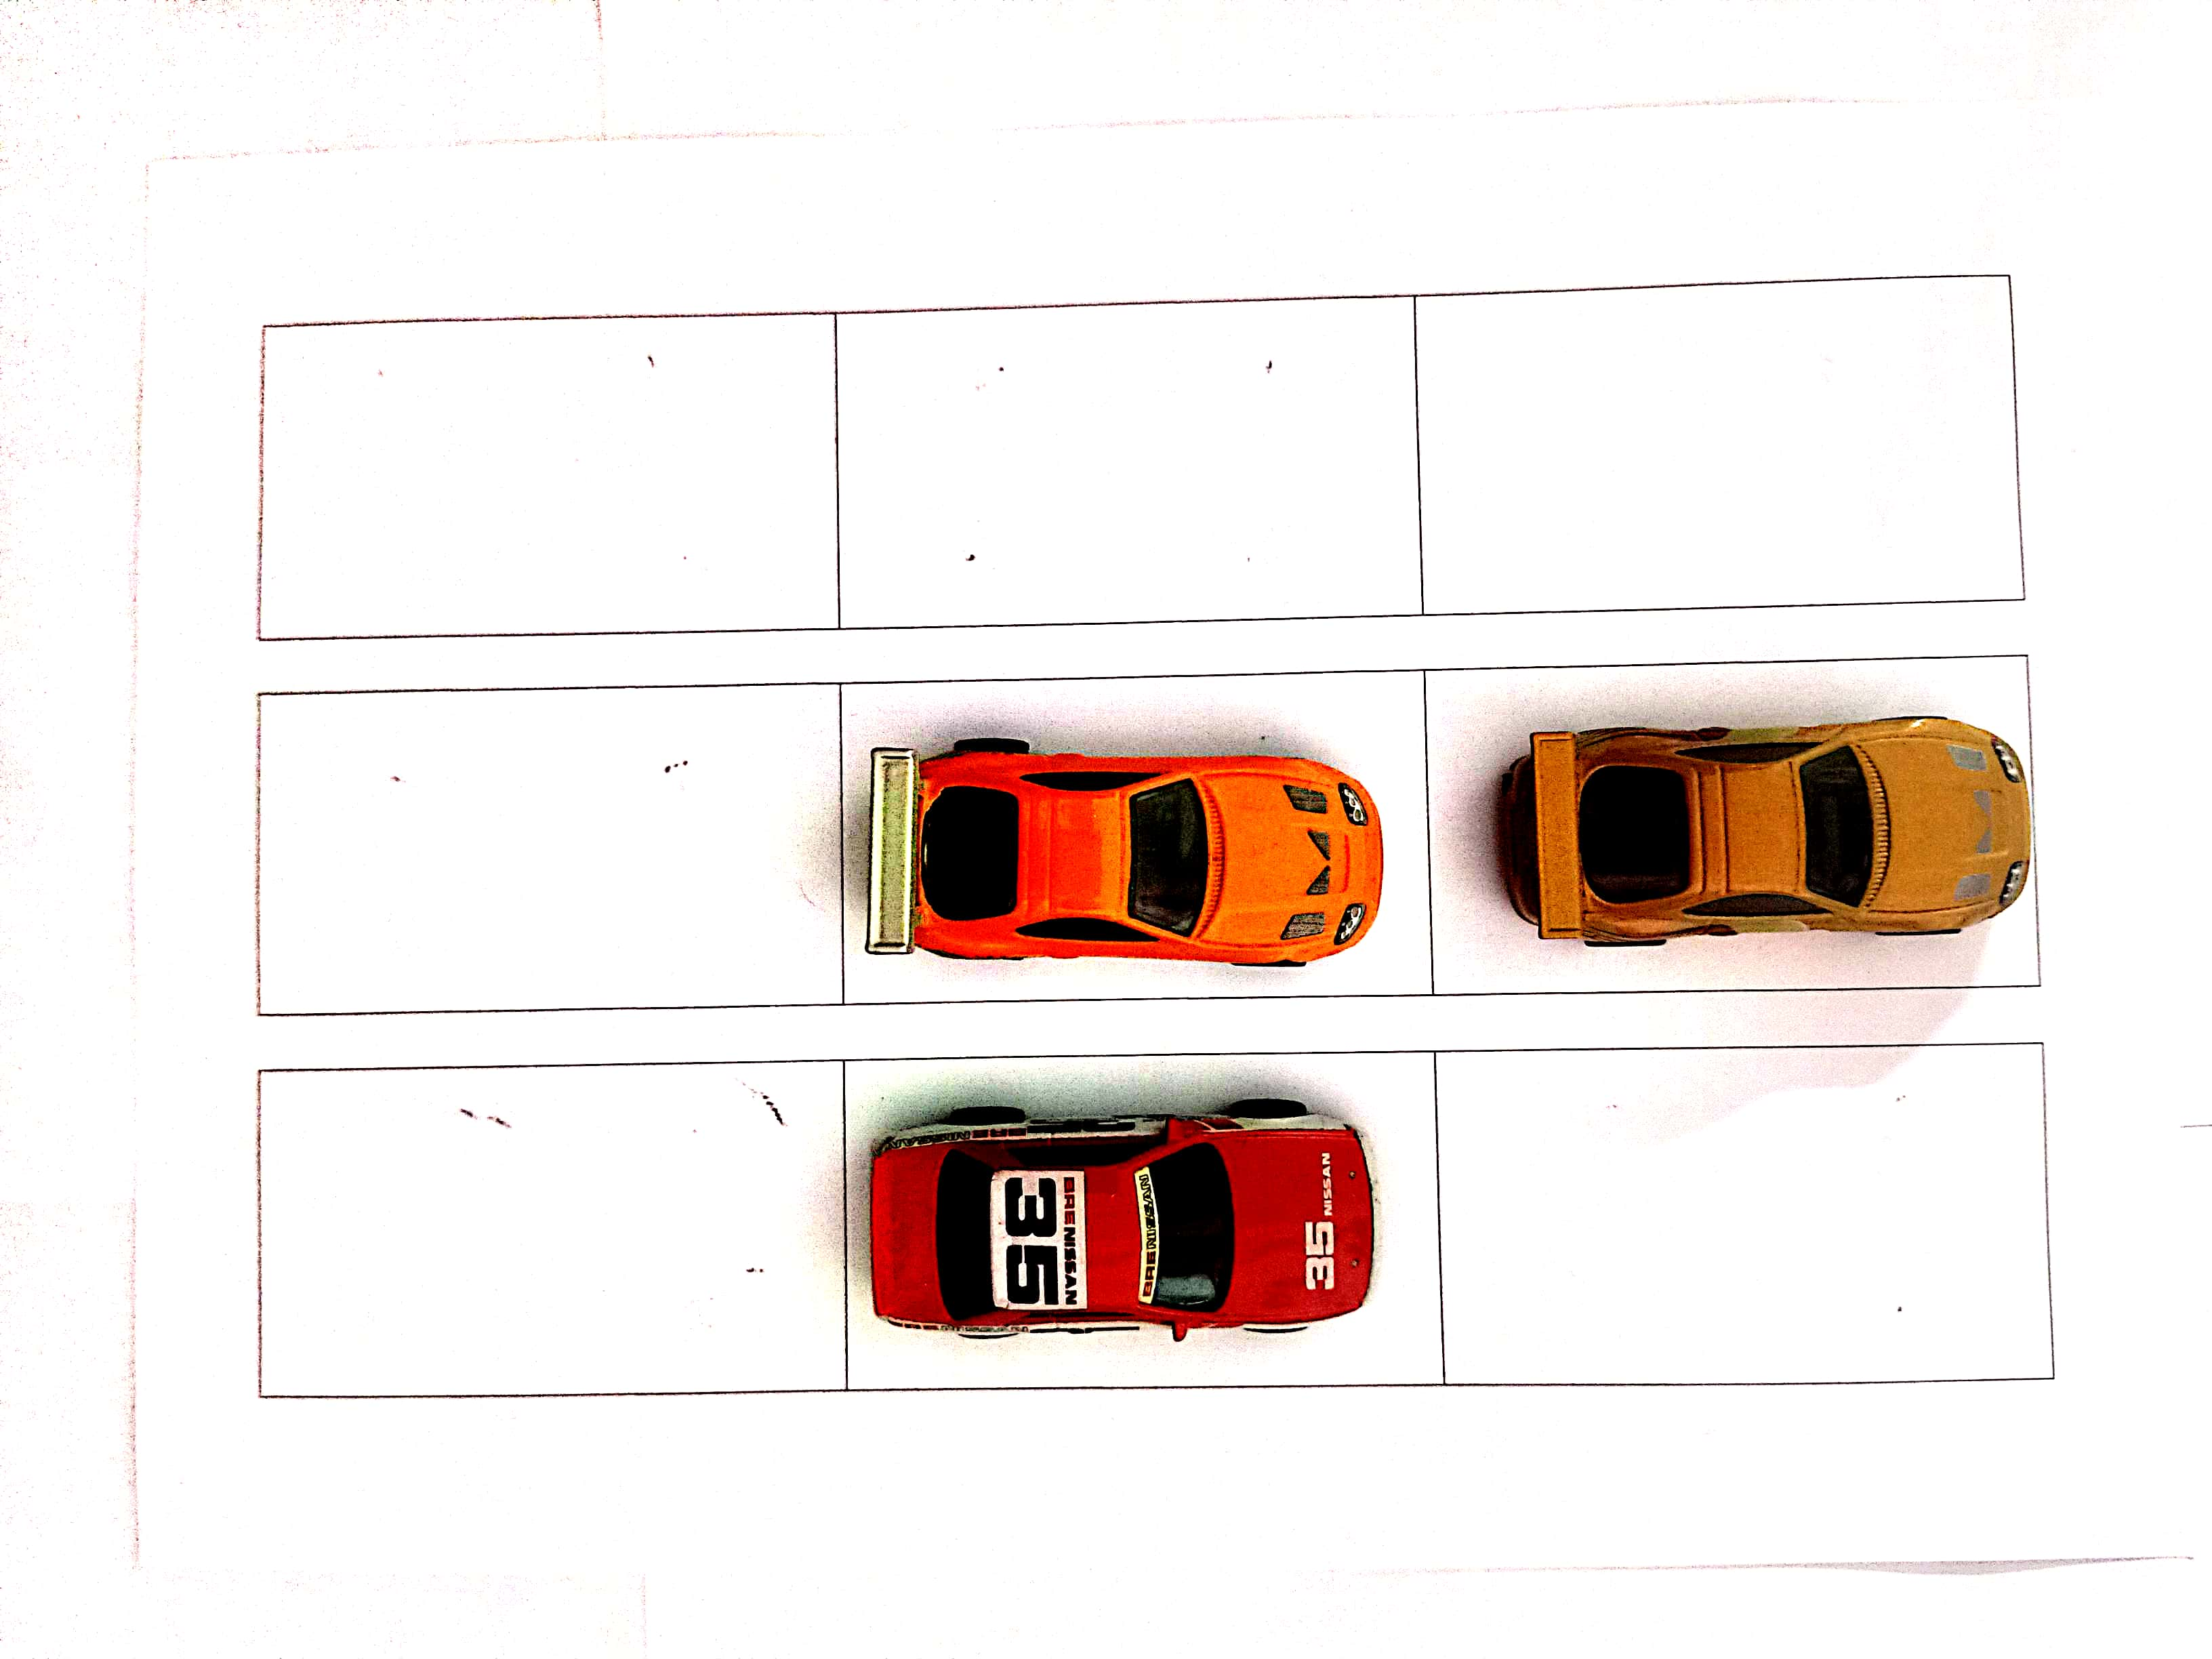Busy: (1425, 657, 2033, 992), (843, 1056, 1432, 1396), (843, 676, 1416, 1000)
Free: (1440, 1046, 2054, 1384), (1428, 279, 2017, 615), (256, 1056, 836, 1389), (253, 688, 836, 1018), (840, 305, 1416, 624), (260, 322, 836, 636)
